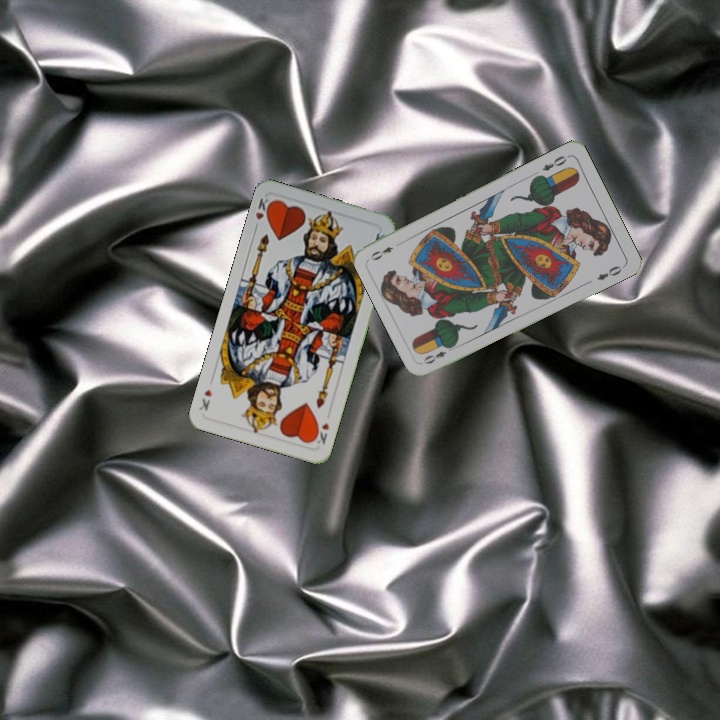EO: (419, 342, 457, 367), (538, 152, 569, 174)
HK: (250, 194, 275, 233), (309, 419, 332, 447)
